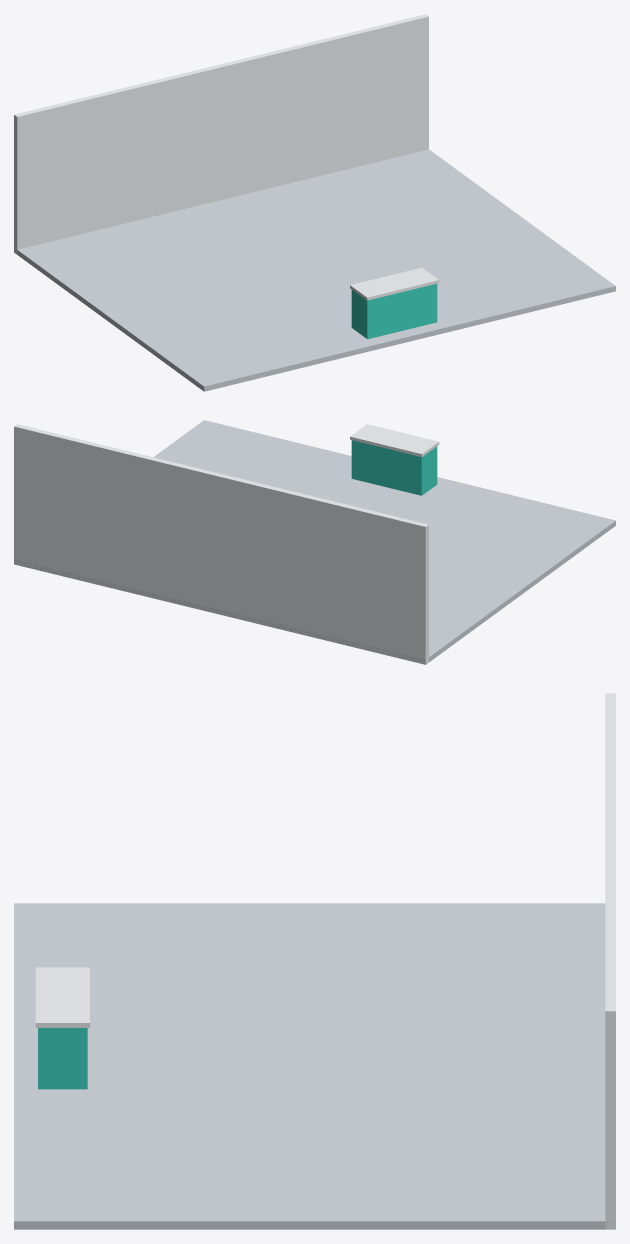
3 views of the same model, one above another, from view 1: azimuth 30°, elevation 25°; view 2: azimuth 150°, elevation 25°; view 3: azimuth 270°, elevation 25° (orthographic). The views are drawn at different scales.
Visible parts, largest first — view 1: Exhibition Booth Concept; view 2: Exhibition Booth Concept; view 3: Exhibition Booth Concept.
Boxes of the visible parts, x1,y1,x2,y2 form: Exhibition Booth Concept: (14, 14, 615, 391); Exhibition Booth Concept: (14, 420, 615, 664); Exhibition Booth Concept: (14, 693, 615, 1229).
Bounding box in the file's own units: 10 × 3.2 × 8.
